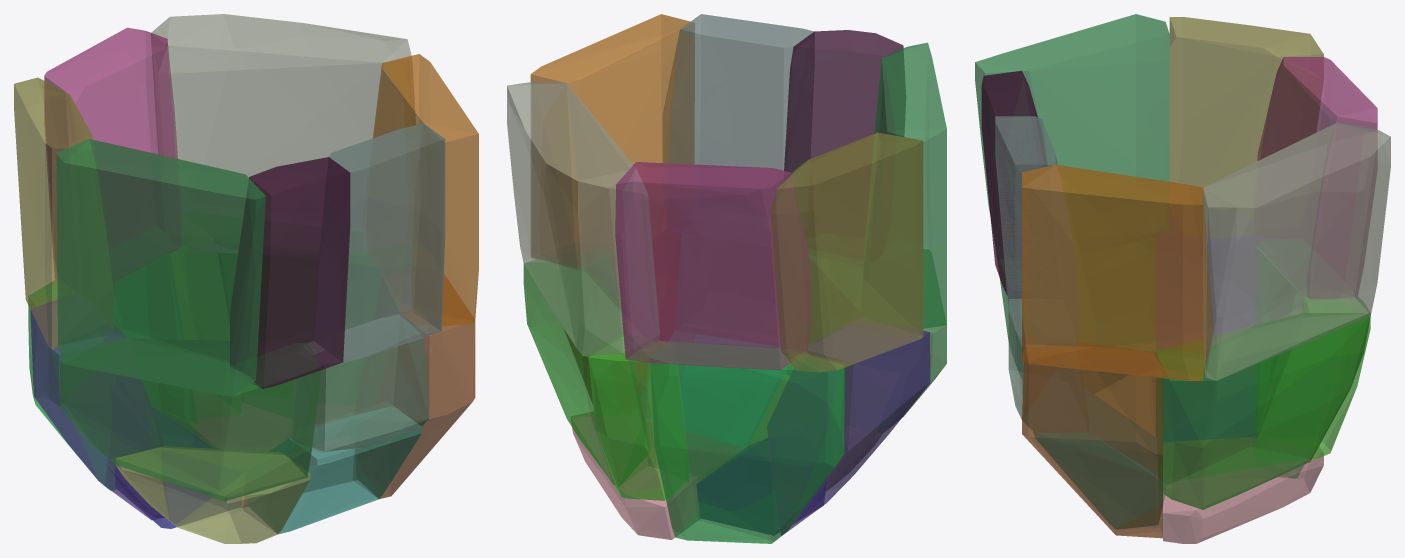
3 renders of one model, left to right at view 1: azimuth 30°, elevation 25°; view 2: azimuth 150°, elevation 25°; view 3: azimuth 270°, elevation 25°, orthographic. The views are drawn at different scales.
Parts seen in each view (by area): view 1: Shape_IndexedFaceSet.008, Shape_IndexedFaceSet, Shape_IndexedFaceSet.003, Shape_IndexedFaceSet.010, Shape_IndexedFaceSet.009, Shape_IndexedFaceSet.007, Shape_IndexedFaceSet.011, Shape_IndexedFaceSet.006, Shape_IndexedFaceSet.017, Shape_IndexedFaceSet.002, Shape_IndexedFaceSet.005, Shape_IndexedFaceSet.012 (+6 smaller); view 2: Shape_IndexedFaceSet.007, Shape_IndexedFaceSet.001, Shape_IndexedFaceSet.006, Shape_IndexedFaceSet, Shape_IndexedFaceSet.011, Shape_IndexedFaceSet.010, Shape_IndexedFaceSet.012, Shape_IndexedFaceSet.009, Shape_IndexedFaceSet.015, Shape_IndexedFaceSet.008, Shape_IndexedFaceSet.014, Shape_IndexedFaceSet.017 (+6 smaller); view 3: Shape_IndexedFaceSet.011, Shape_IndexedFaceSet, Shape_IndexedFaceSet.015, Shape_IndexedFaceSet.008, Shape_IndexedFaceSet.006, Shape_IndexedFaceSet.005, Shape_IndexedFaceSet.007, Shape_IndexedFaceSet.010, Shape_IndexedFaceSet.004, Shape_IndexedFaceSet.014, Shape_IndexedFaceSet.016, Shape_IndexedFaceSet.012 (+6 smaller).
Boxes of the visible parts, x1,y1,x2,y2 form: Shape_IndexedFaceSet.008: (56, 139, 265, 396); Shape_IndexedFaceSet: (151, 14, 415, 252); Shape_IndexedFaceSet.003: (59, 338, 321, 501); Shape_IndexedFaceSet.010: (315, 123, 445, 362); Shape_IndexedFaceSet.009: (230, 157, 350, 388); Shape_IndexedFaceSet.007: (44, 27, 177, 278); Shape_IndexedFaceSet.011: (373, 54, 478, 326); Shape_IndexedFaceSet.006: (14, 77, 113, 349); Shape_IndexedFaceSet.017: (292, 314, 429, 452); Shape_IndexedFaceSet.002: (115, 446, 310, 543); Shape_IndexedFaceSet.005: (355, 274, 475, 498); Shape_IndexedFaceSet.012: (30, 300, 164, 520); Shape_IndexedFaceSet.007: (615, 162, 811, 370); Shape_IndexedFaceSet.001: (650, 341, 844, 543); Shape_IndexedFaceSet.006: (770, 132, 923, 372); Shape_IndexedFaceSet: (507, 82, 659, 355); Shape_IndexedFaceSet.011: (530, 14, 694, 267); Shape_IndexedFaceSet.010: (663, 14, 814, 224); Shape_IndexedFaceSet.012: (767, 318, 930, 535); Shape_IndexedFaceSet.009: (784, 30, 905, 238); Shape_IndexedFaceSet.015: (523, 260, 650, 485); Shape_IndexedFaceSet.008: (861, 42, 946, 328); Shape_IndexedFaceSet.014: (588, 334, 688, 500); Shape_IndexedFaceSet.017: (675, 233, 779, 346); Shape_IndexedFaceSet.011: (1022, 164, 1213, 380); Shape_IndexedFaceSet: (1203, 122, 1390, 380); Shape_IndexedFaceSet.015: (1155, 313, 1370, 509); Shape_IndexedFaceSet.008: (975, 14, 1169, 249); Shape_IndexedFaceSet.006: (1169, 17, 1323, 223); Shape_IndexedFaceSet.005: (1022, 342, 1162, 538); Shape_IndexedFaceSet.007: (1256, 57, 1377, 298); Shape_IndexedFaceSet.010: (995, 116, 1078, 347); Shape_IndexedFaceSet.004: (1163, 437, 1323, 543); Shape_IndexedFaceSet.014: (1257, 297, 1370, 458); Shape_IndexedFaceSet.016: (1022, 382, 1166, 529); Shape_IndexedFaceSet.012: (1157, 208, 1256, 349).
Size of the model in its own units: 0.5987 by 0.58 by 0.58.
